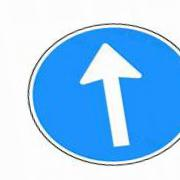forward: (27, 23, 178, 165)
